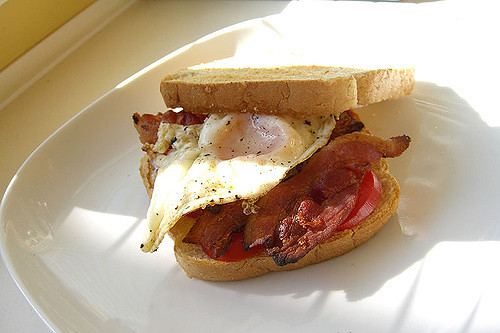fried egg: (166, 110, 332, 196)
slice of bread: (161, 67, 417, 110), (157, 237, 404, 280)
